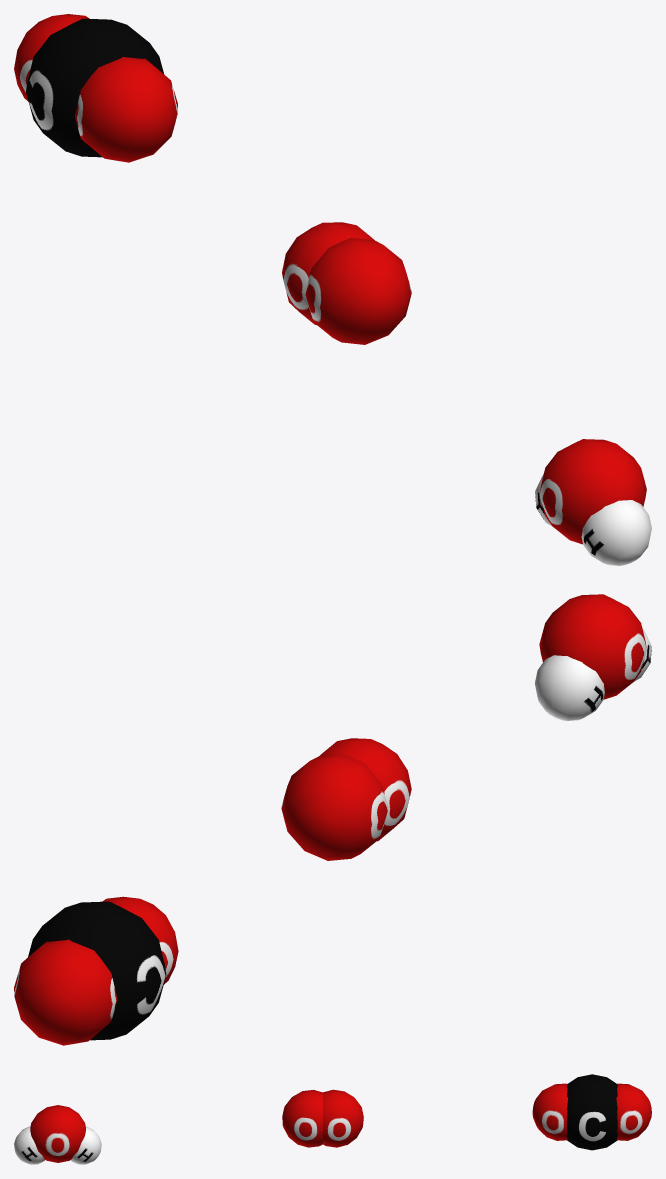
Rendered from Molecules.fbx.
3 renders of one model, top to bottom at view 1: azimuth 30°, elevation 25°; view 2: azimuth 150°, elevation 25°; view 3: azimuth 270°, elevation 25°, orthographic. The views are drawn at different scales.
Visible parts, largest first — view 1: CO2, O2, H2O; view 2: CO2, O2, H2O; view 3: CO2, O2, H2O.
Part boxes in pixels (box(x1,y1,x2,y2)): CO2: box(14, 14, 177, 162); O2: box(282, 222, 411, 344); H2O: box(535, 439, 651, 565); CO2: box(14, 896, 178, 1045); O2: box(281, 738, 411, 860); H2O: box(535, 594, 651, 720); CO2: box(532, 1074, 651, 1150); O2: box(282, 1089, 363, 1147); H2O: box(14, 1105, 101, 1164).
Bounding box in the file's own units: 206 × 254 × 1719.
